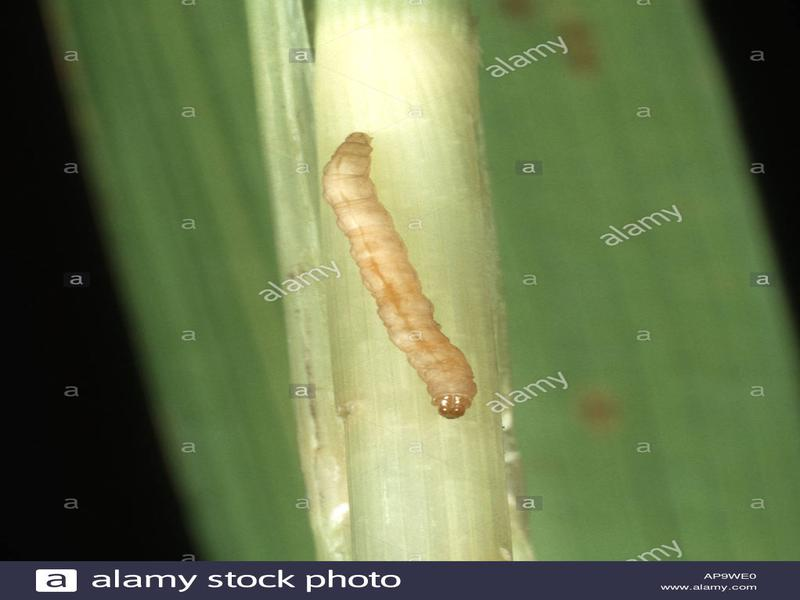Rice_skipper: (314, 119, 498, 424)
